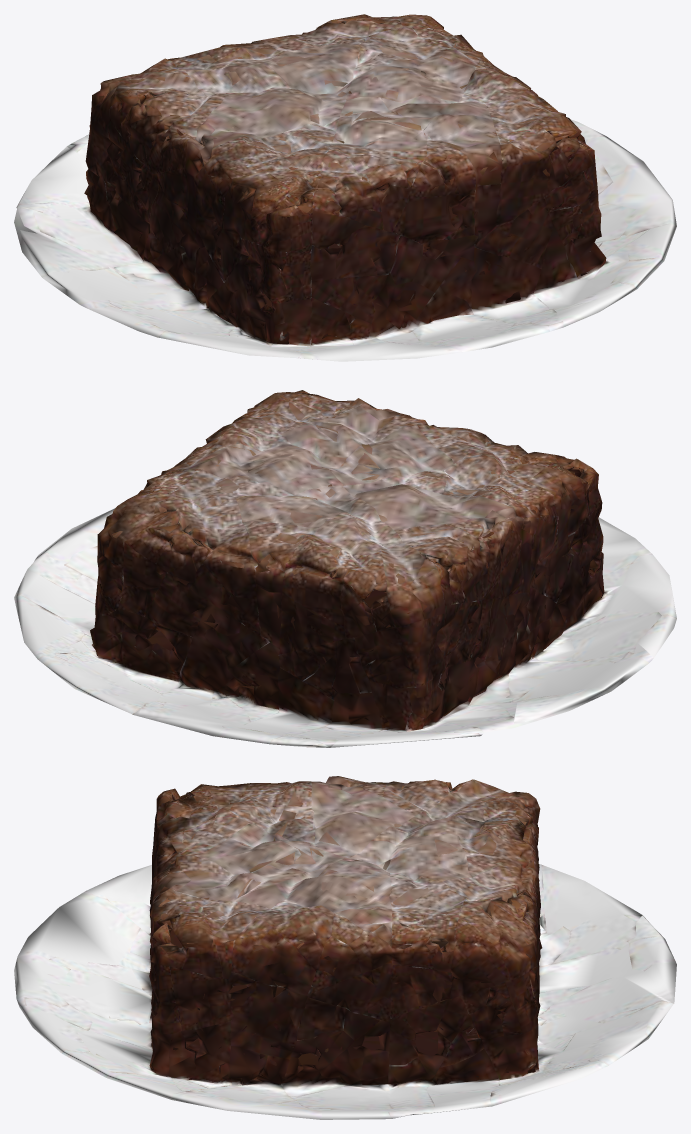
File: chocolate-brownie-ar.glb
3 views of the same model, one above another, from view 1: azimuth 30°, elevation 25°; view 2: azimuth 150°, elevation 25°; view 3: azimuth 270°, elevation 25° (orthographic).
Parts seen in each view (by area): view 1: mesh_node; view 2: mesh_node; view 3: mesh_node.
Part boxes in pixels (bbox=[...]): mesh_node: bbox=[14, 14, 676, 361]; mesh_node: bbox=[14, 390, 676, 747]; mesh_node: bbox=[14, 776, 676, 1119].
Size of the model in its own units: 0.1791 by 0.0517 by 0.1792.
1 material, 1 textured.
